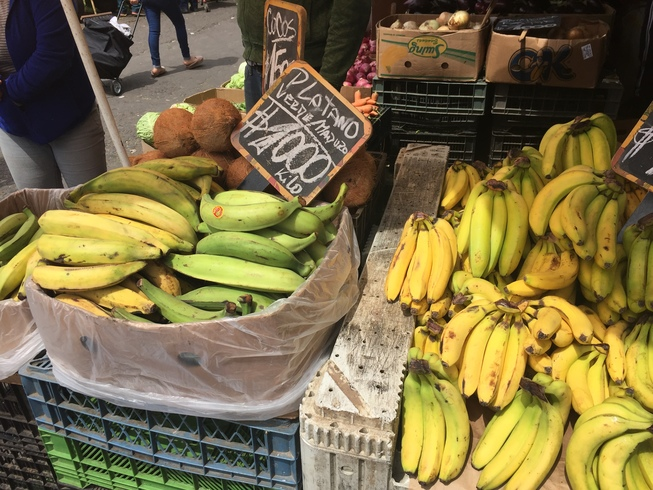precio: (225, 63, 379, 213), (256, 3, 314, 115)
